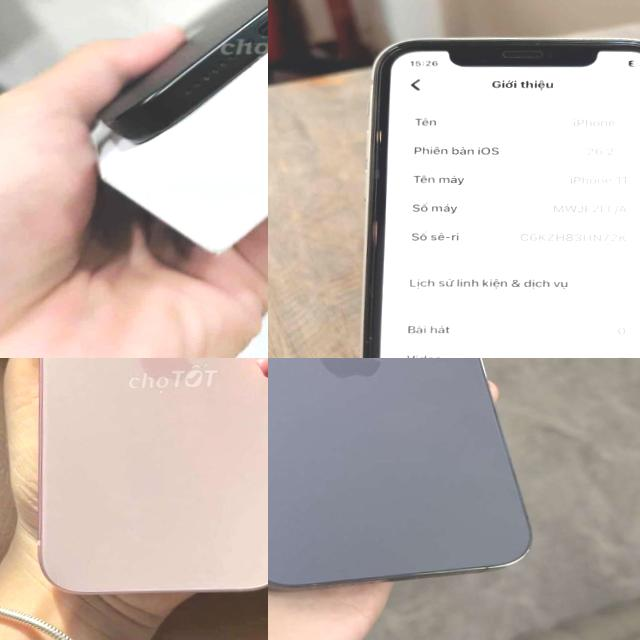gen_11: (346, 24, 640, 358)
gen_14: (268, 358, 545, 600)
gen_15: (15, 358, 268, 623)
gen_16: (78, 0, 268, 142)
